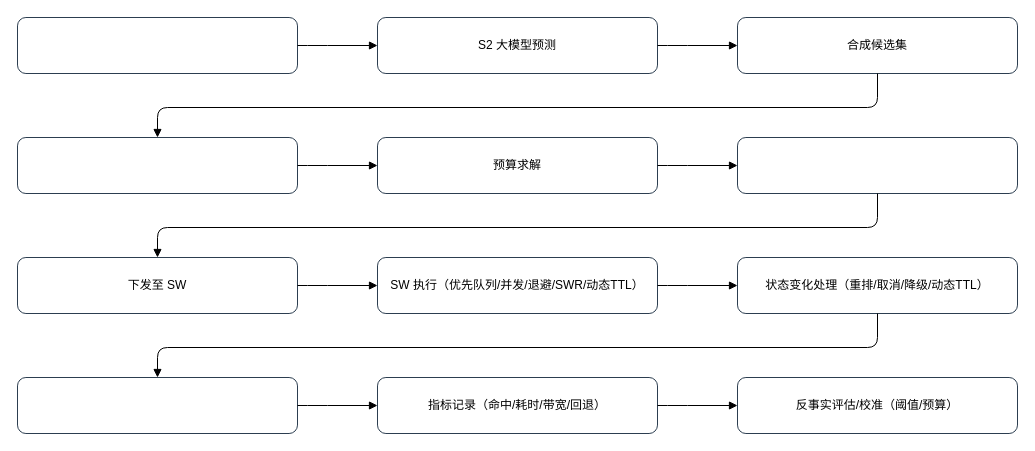
This 1035x451 diagram has some shape labels left out. The centre of each missing label's shape, as x and y in pixels:
S1 采集上下文: the point at 157,45
S3 建模约束（带宽/CPU/存储/隐私/权限）: the point at 157,165
生成分级预取计划: the point at 877,165
路由切换（先读缓存，未命中兜底）: the point at 157,405
